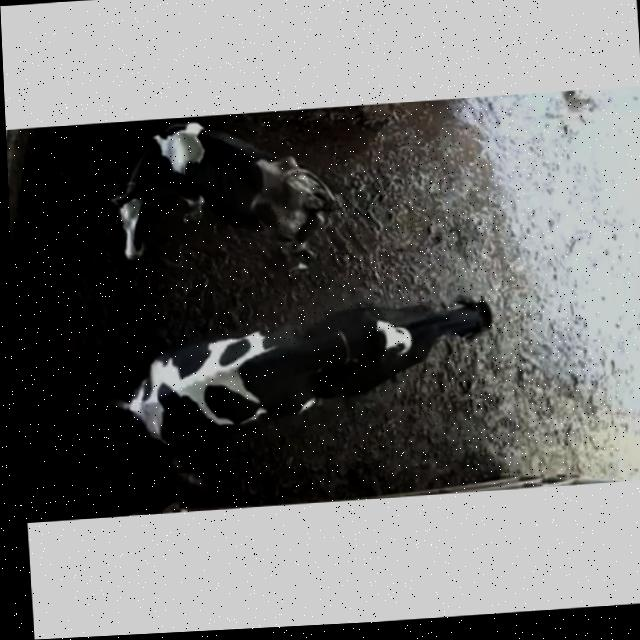ride: (87, 302, 423, 460)
